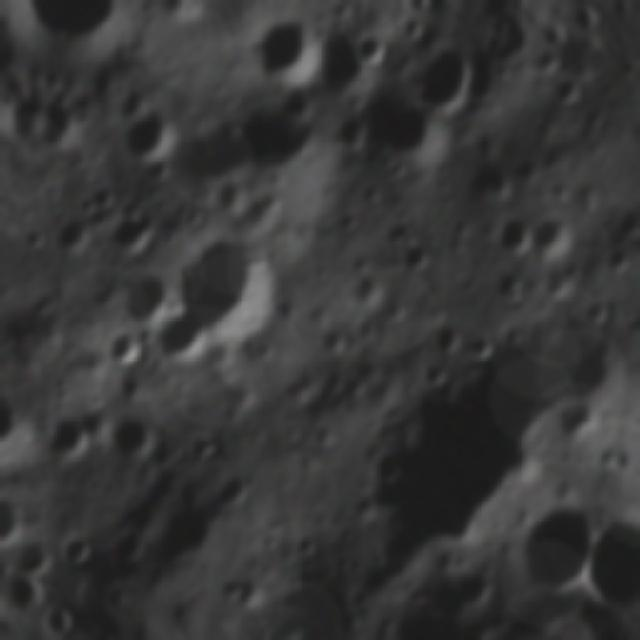crater: (163, 209, 297, 351), (150, 92, 273, 212), (506, 492, 602, 612), (230, 87, 338, 193), (351, 89, 467, 186), (387, 27, 491, 125), (237, 0, 326, 102), (55, 0, 153, 78), (270, 572, 382, 640), (142, 501, 228, 585), (116, 96, 190, 187), (299, 23, 379, 106), (27, 390, 104, 475), (96, 398, 172, 479), (520, 200, 594, 274), (141, 302, 217, 372), (112, 258, 183, 332), (448, 144, 521, 213), (0, 378, 46, 482), (102, 200, 163, 266), (226, 178, 292, 239), (34, 95, 95, 160), (436, 559, 498, 618), (485, 206, 543, 269), (480, 260, 540, 318), (550, 392, 608, 448), (45, 210, 103, 264), (213, 564, 275, 614), (0, 481, 40, 554), (99, 320, 153, 374), (190, 328, 244, 382), (533, 256, 585, 312), (342, 264, 395, 316), (422, 313, 472, 364), (14, 530, 63, 582), (107, 524, 155, 576), (212, 465, 259, 518), (545, 70, 592, 119), (55, 527, 102, 576), (367, 442, 411, 493), (309, 315, 356, 362), (515, 42, 563, 88), (351, 21, 392, 73), (79, 176, 123, 222), (410, 350, 456, 392), (286, 528, 329, 570), (578, 288, 622, 328), (398, 239, 440, 279), (609, 192, 640, 246), (598, 241, 639, 281), (14, 220, 54, 260), (345, 487, 386, 525), (151, 0, 211, 25), (462, 329, 500, 368), (356, 177, 390, 214), (590, 438, 619, 474), (530, 623, 572, 640), (627, 241, 640, 281), (610, 435, 621, 471)
